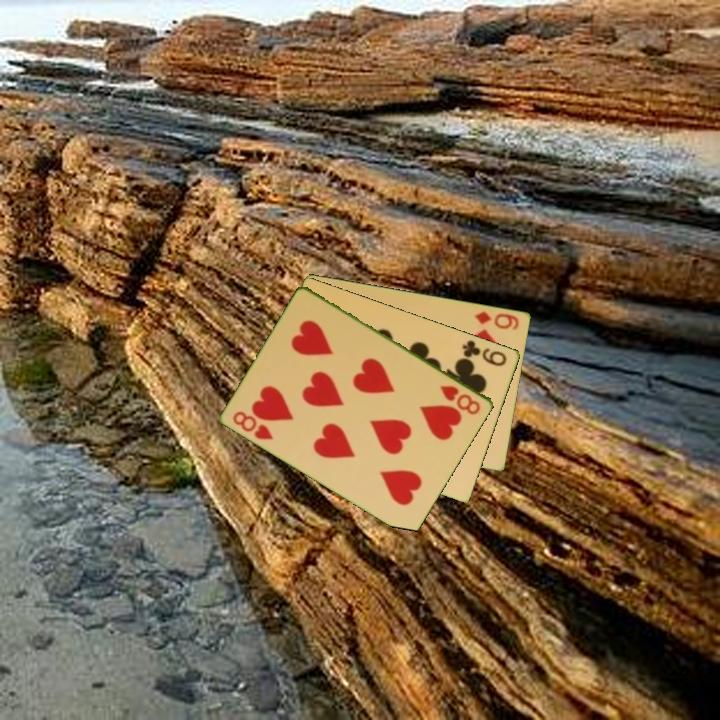6d: (471, 307, 522, 333)
8h: (437, 382, 484, 418), (229, 407, 276, 443)
9c: (459, 336, 510, 369)
